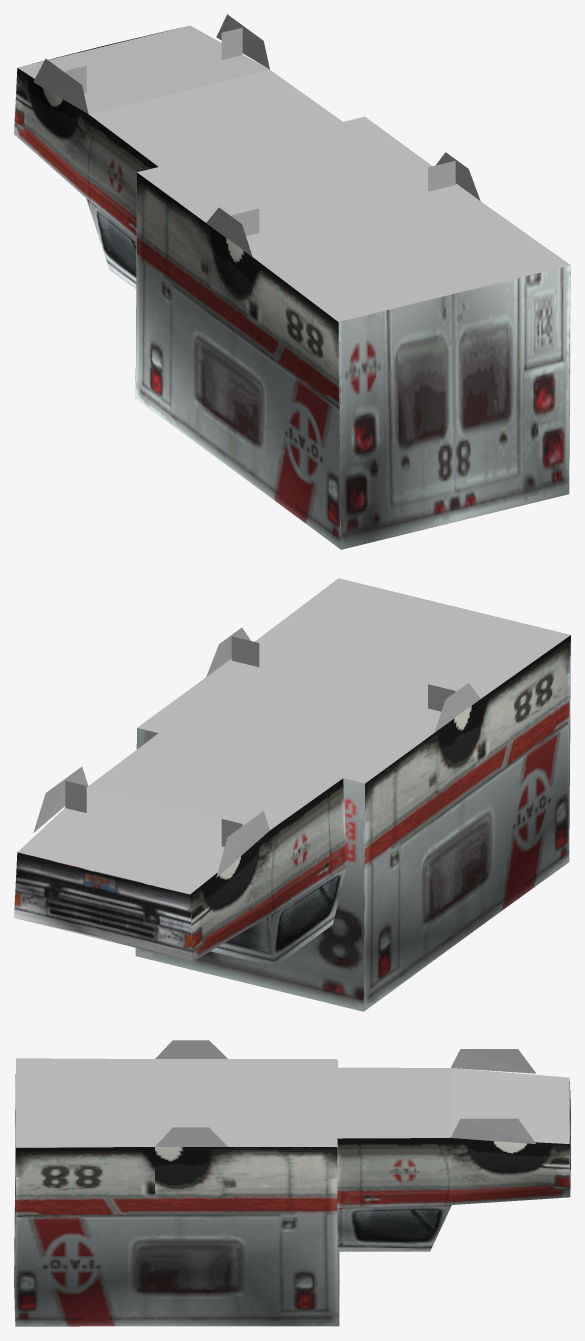
Rendered from VEGAS_model9_low.obj.
3 renders of one model, top to bottom at view 1: azimuth 30°, elevation 25°; view 2: azimuth 150°, elevation 25°; view 3: azimuth 270°, elevation 25°, orthographic. The views are drawn at different scales.
Visible parts, largest first — view 1: VEGAS_model9_low; view 2: VEGAS_model9_low; view 3: VEGAS_model9_low.
Part boxes in pixels (bbox=[...]): VEGAS_model9_low: bbox=[14, 14, 570, 549]; VEGAS_model9_low: bbox=[14, 578, 570, 1011]; VEGAS_model9_low: bbox=[14, 1040, 570, 1326].
Bounding box in the file's own units: 320 × 332 × 842.
